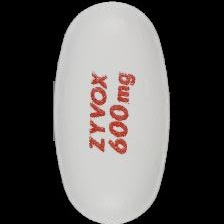55154-3938: (0, 0, 224, 224)
